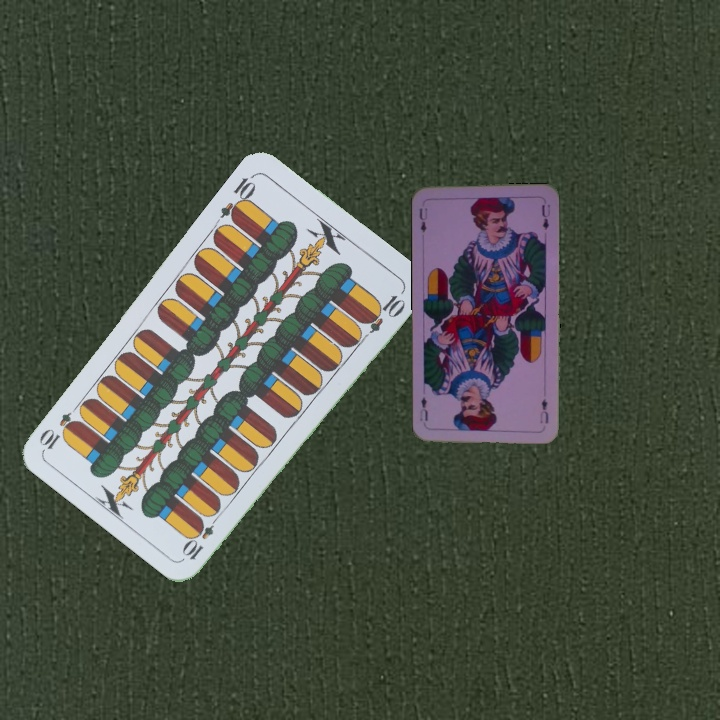E10: (179, 509, 223, 563), (216, 170, 259, 225)
EU: (536, 395, 550, 426), (416, 204, 429, 235)
